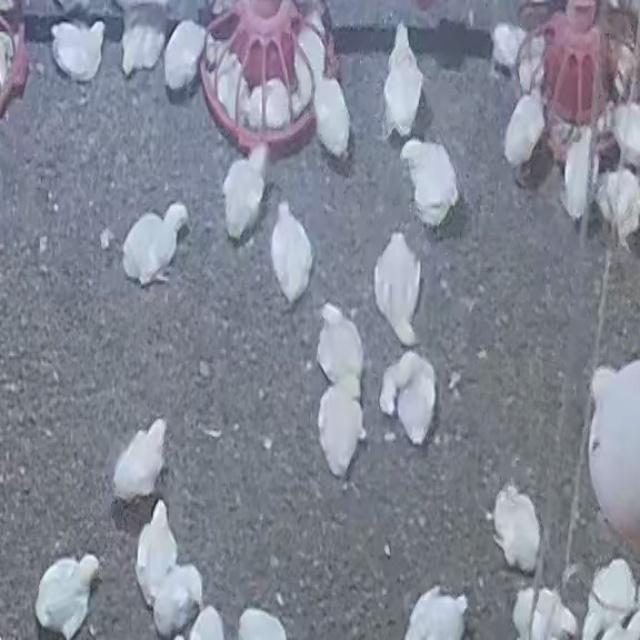chicken: (116, 198, 194, 292), (314, 377, 369, 480), (220, 141, 274, 245), (380, 351, 437, 447), (35, 553, 99, 637), (400, 137, 458, 229), (373, 236, 421, 346), (110, 415, 171, 501), (268, 199, 316, 306), (132, 500, 181, 603), (316, 300, 368, 397), (382, 22, 424, 139), (491, 486, 540, 576), (151, 563, 204, 638), (594, 167, 640, 249), (511, 585, 576, 640), (403, 586, 469, 640), (561, 129, 598, 221), (313, 74, 352, 161), (162, 19, 209, 91), (51, 19, 104, 81), (503, 93, 546, 168), (246, 78, 290, 128)
